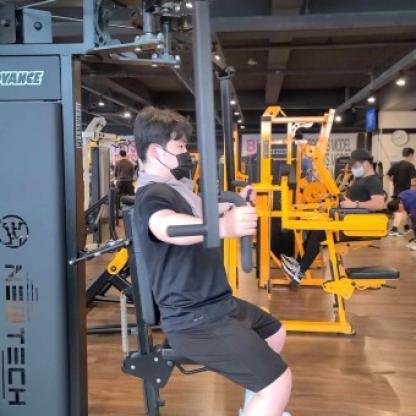chest fly machine: (0, 0, 330, 416)
